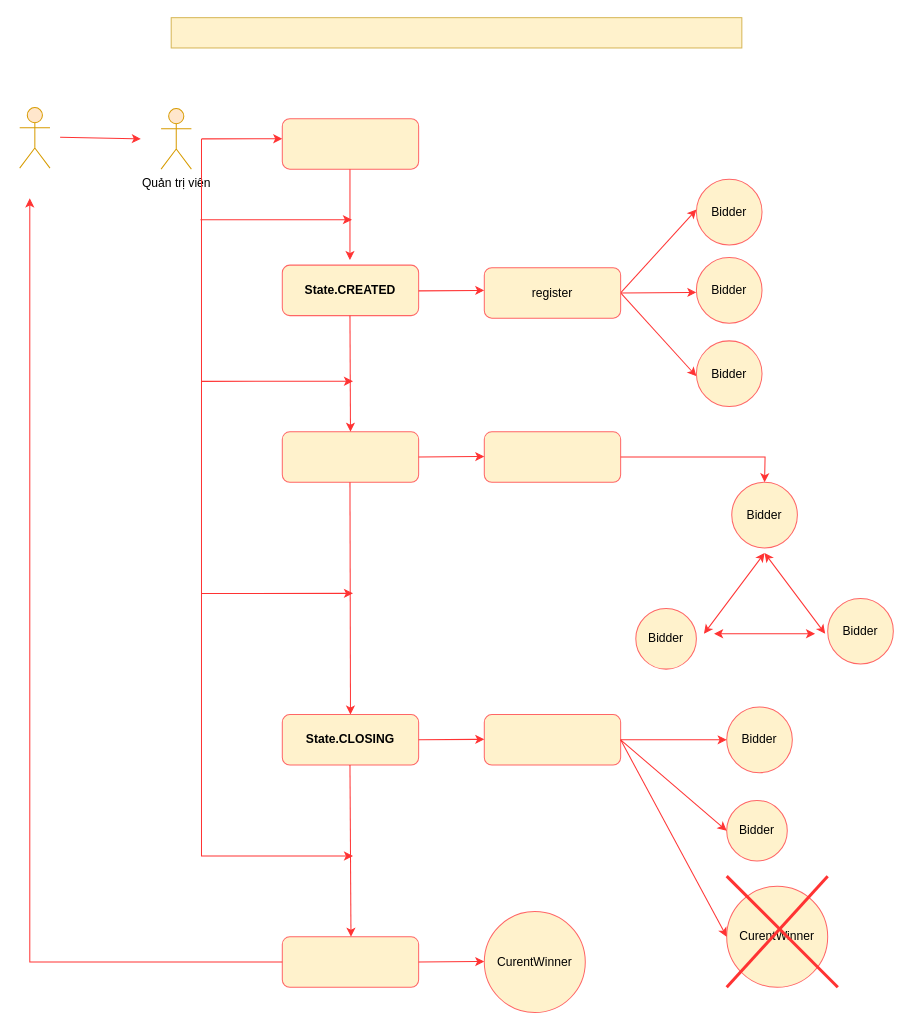
The diagram is 911 pixels wide and 1030 high, and some of its shapes have lost their labels. The shapes that lost their labels are listed below. From the top down, each one's centre as x and y in pixels, then its label:
At point 456,32: "Functional Diagram".
At point 34,137: "Admin".
At point 350,143: "constructor".
At point 350,456: "State.STARTED".
At point 552,456: "bid".
At point 552,739: "getDeposit".
At point 350,961: "State.CLOSED".
